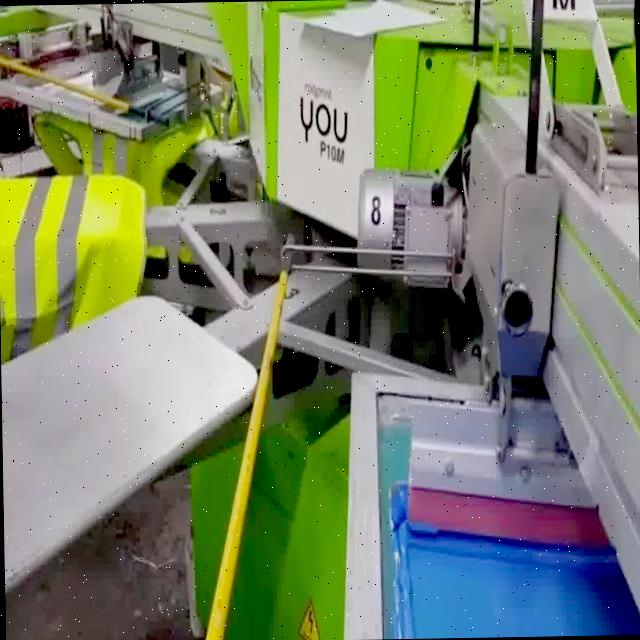vest: (0, 173, 150, 368)
